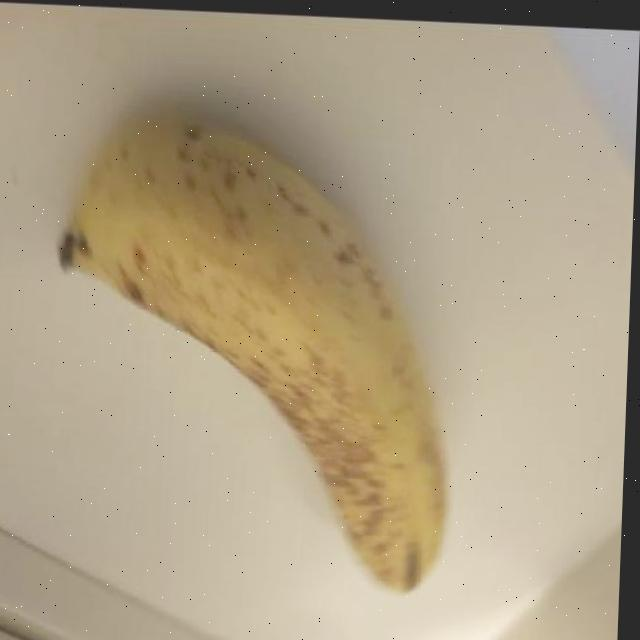banana: (33, 110, 464, 601)
